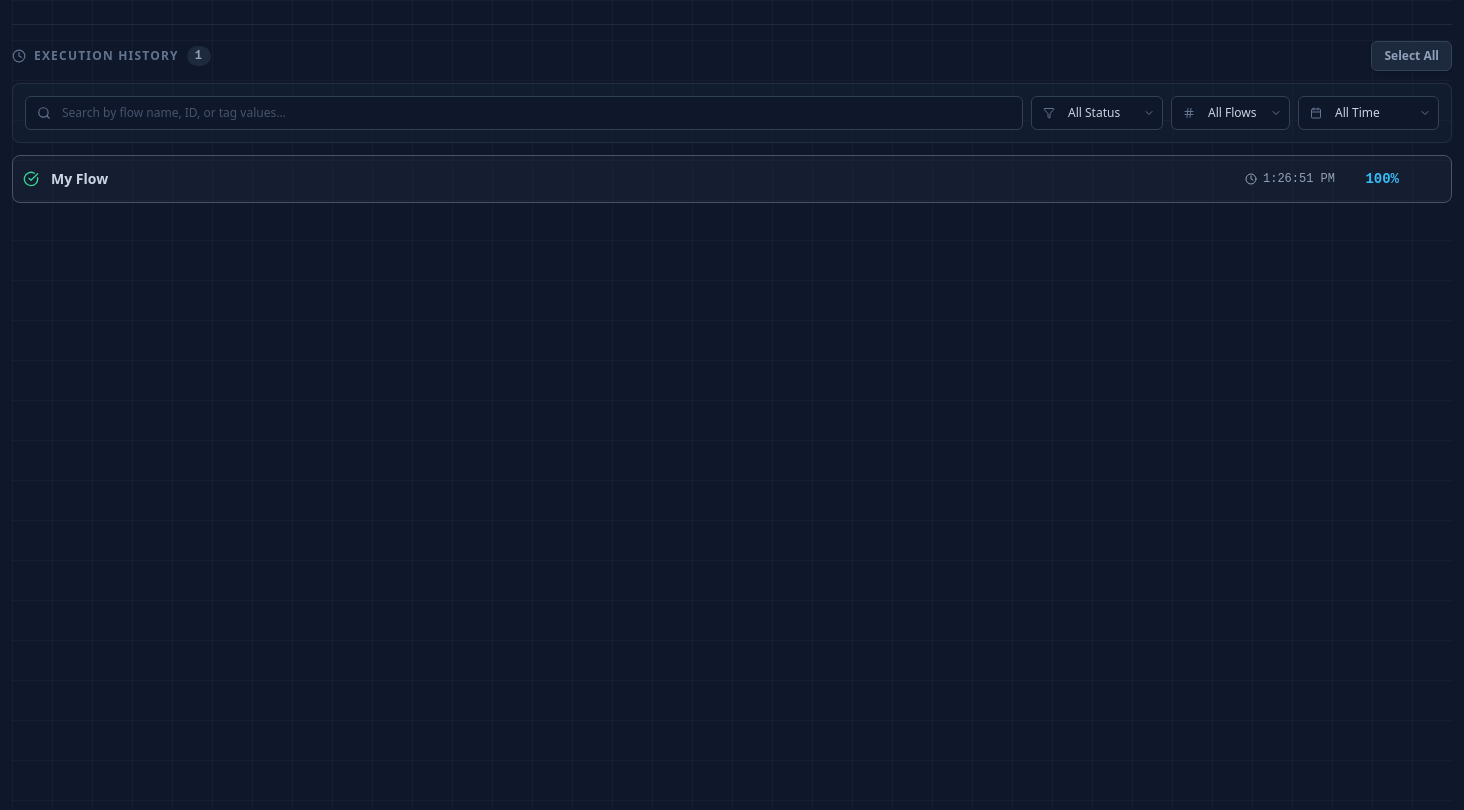
Test case: HistoryPanel › shows Clear Filters button when a filter is active
Select "Failed" in the 1st dropdown at [1097, 113], box [1031, 96, 1163, 130]
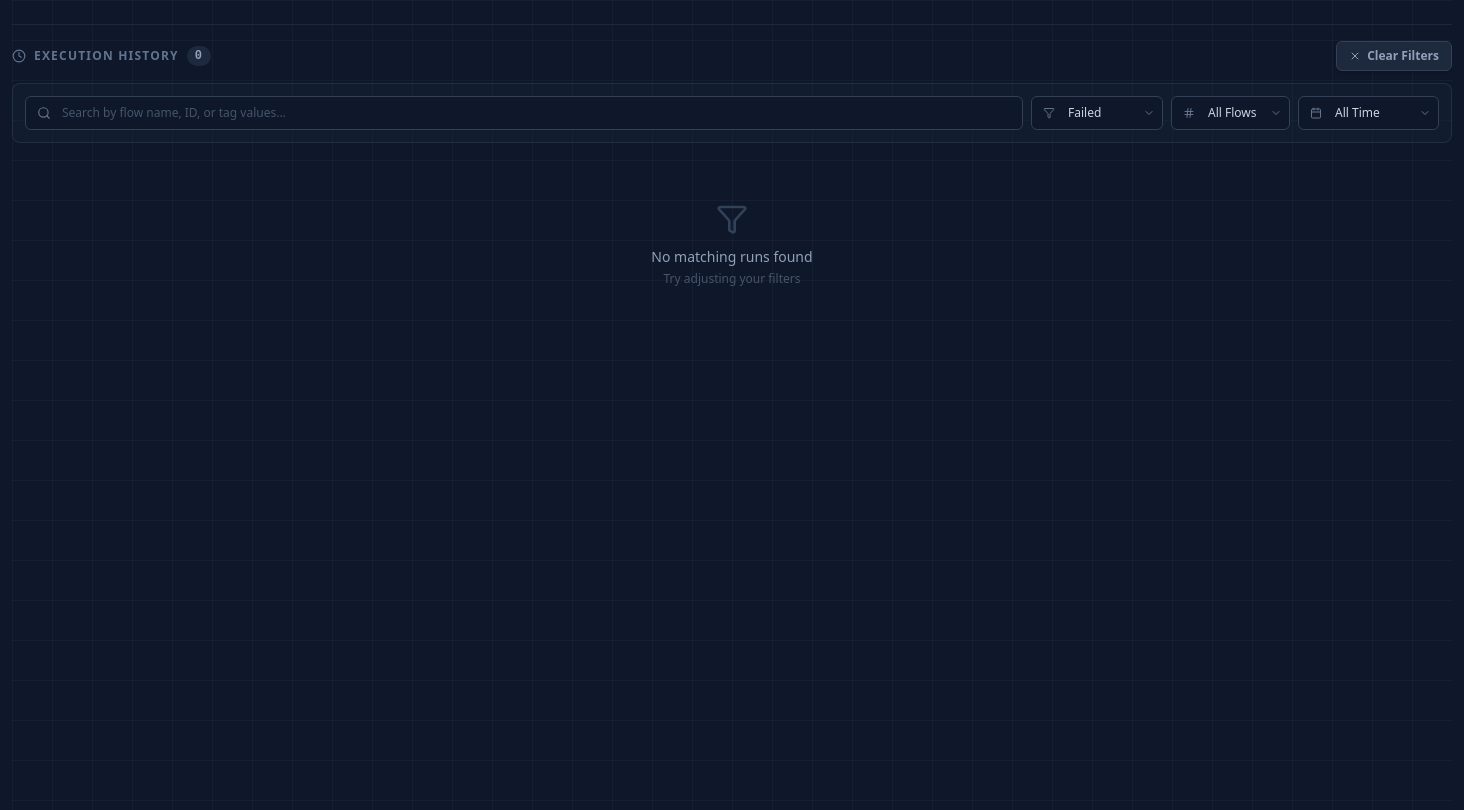
Expected: the button "Clear Filters" is shown, [1336, 41, 1452, 71]
